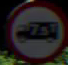Heavy Vehicles: (6, 1, 64, 57)
